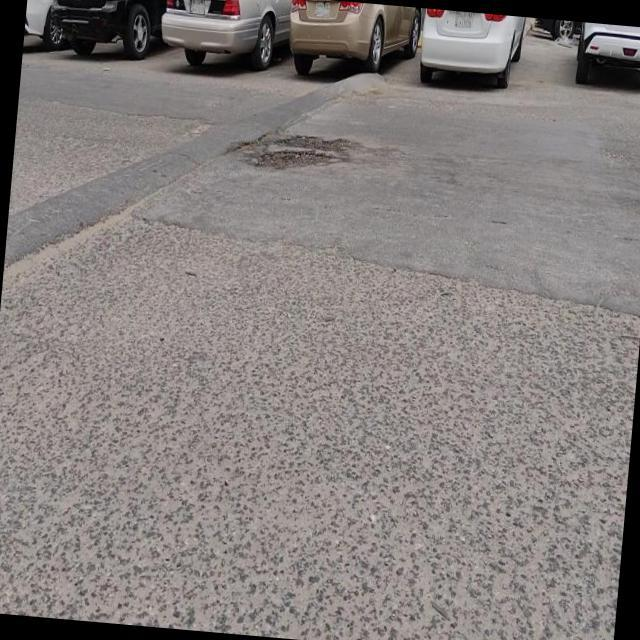Pothole: (250, 133, 355, 173)
